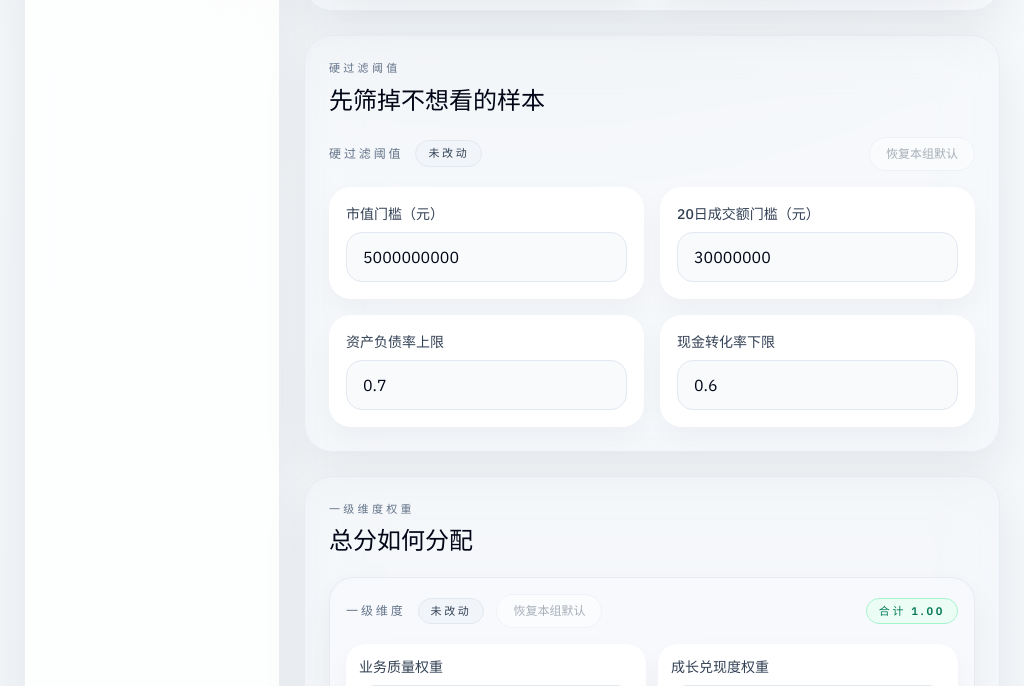
Scenario: LabPage › restores a changed group back to default
(page scrolled)
Replace the text in the number field labelled "现金转化率下限" with "0.75": [818, 384] box [677,360,958,410]
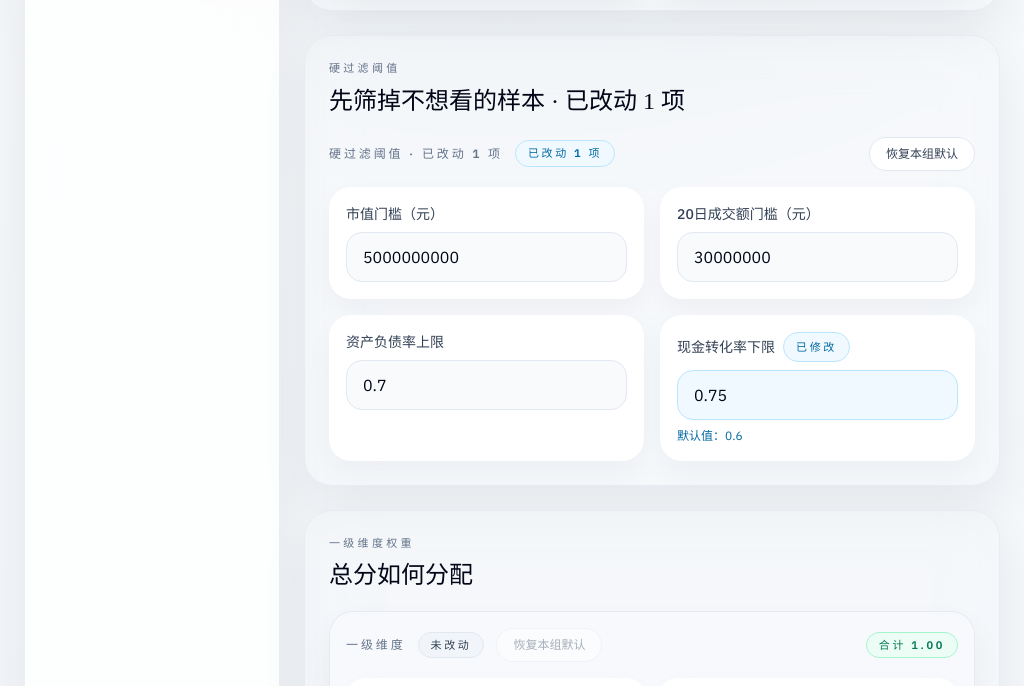
Click the button "恢复本组默认" in the row of "硬过滤阈值 · 已改动 1 项": [922, 154] box [869,136,975,170]
(page scrolled)
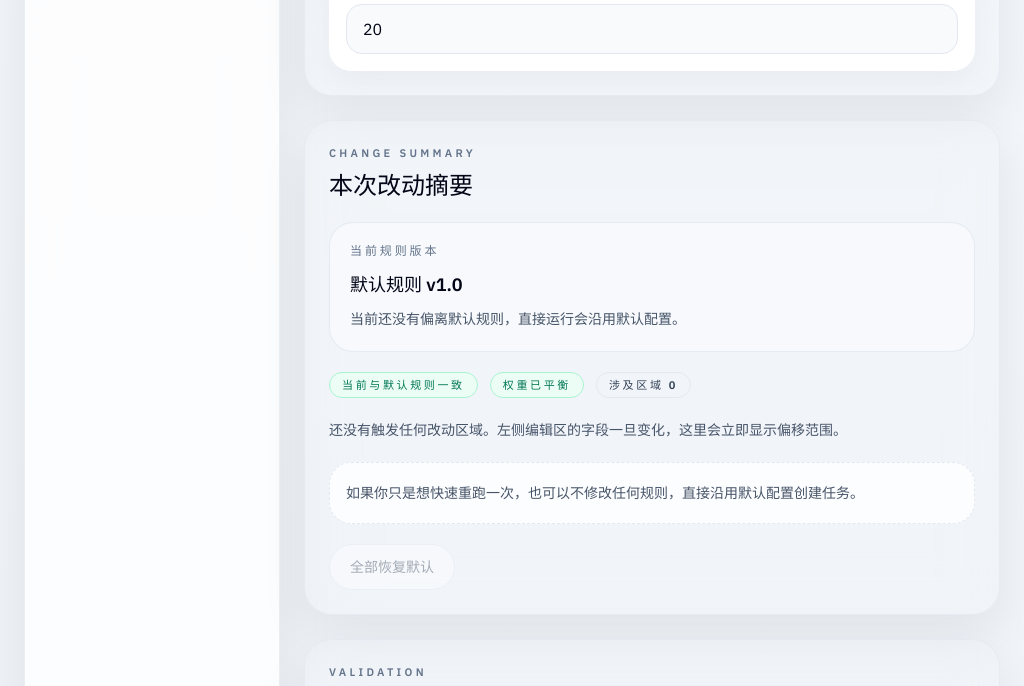
Check: the text "当前与默认规则一致" is shown, box [329,372,478,398]
